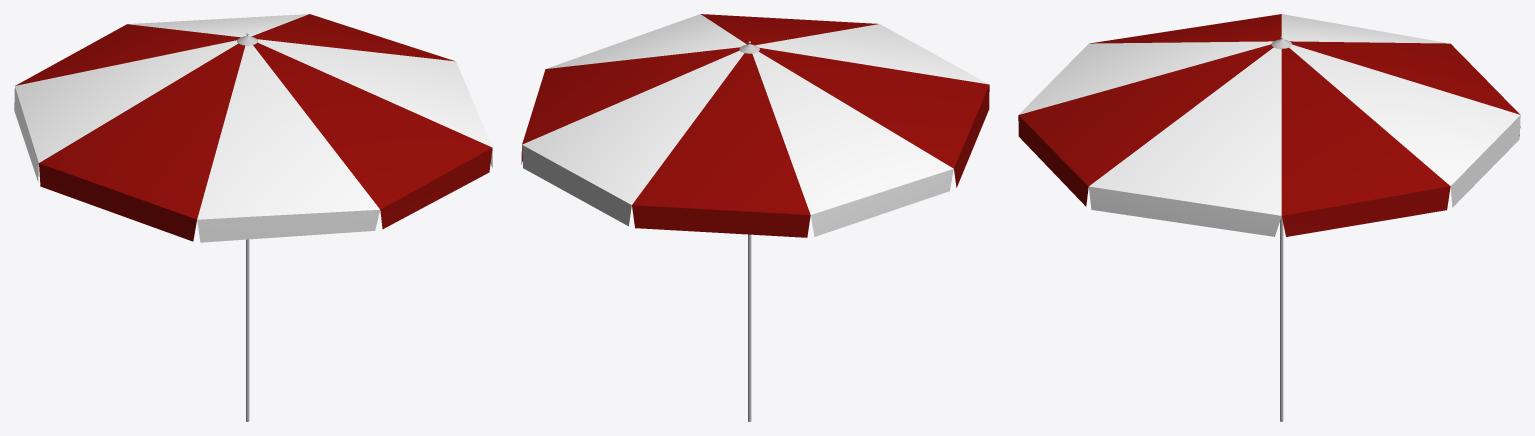
File: red umbrella.fbx
The picture shows the model from 3 angles, left to right: view 1: azimuth 30°, elevation 25°; view 2: azimuth 150°, elevation 25°; view 3: azimuth 270°, elevation 25°; orthographic projection. The views are drawn at different scales.
Visible parts, largest first — view 1: umbrella, bar; view 2: umbrella, bar; view 3: umbrella, bar.
Boxes of the visible parts, x1,y1,x2,y2 form: umbrella: [14, 14, 492, 242]; bar: [246, 239, 249, 421]; umbrella: [521, 14, 989, 237]; bar: [748, 234, 751, 421]; umbrella: [1018, 14, 1520, 236]; bar: [1280, 216, 1283, 421].
Size of the model in its own units: 485 by 431 by 510.
